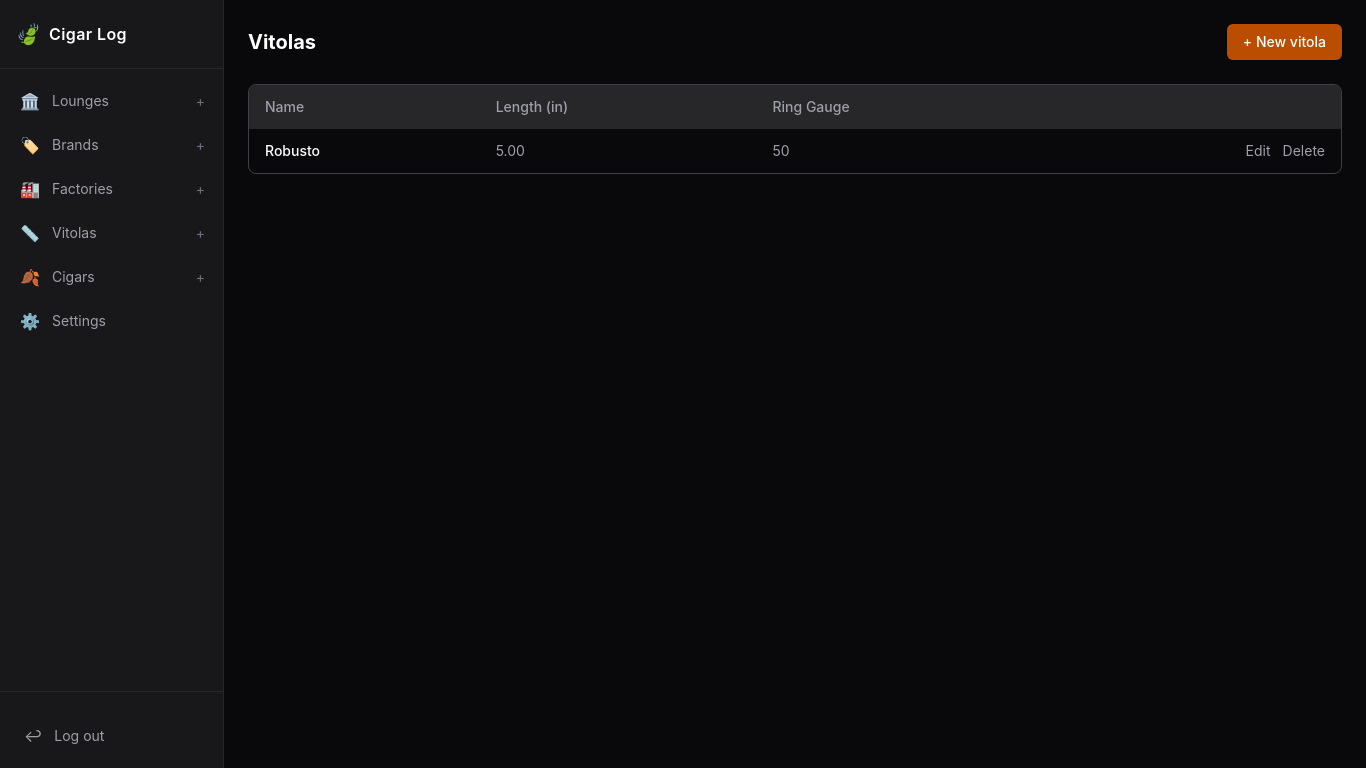
Test: VitolasPage › shows validation error when name is empty on submit
Click the button "+ New vitola": [1284, 42] box top-left (1227, 24), bottom-right (1342, 60)
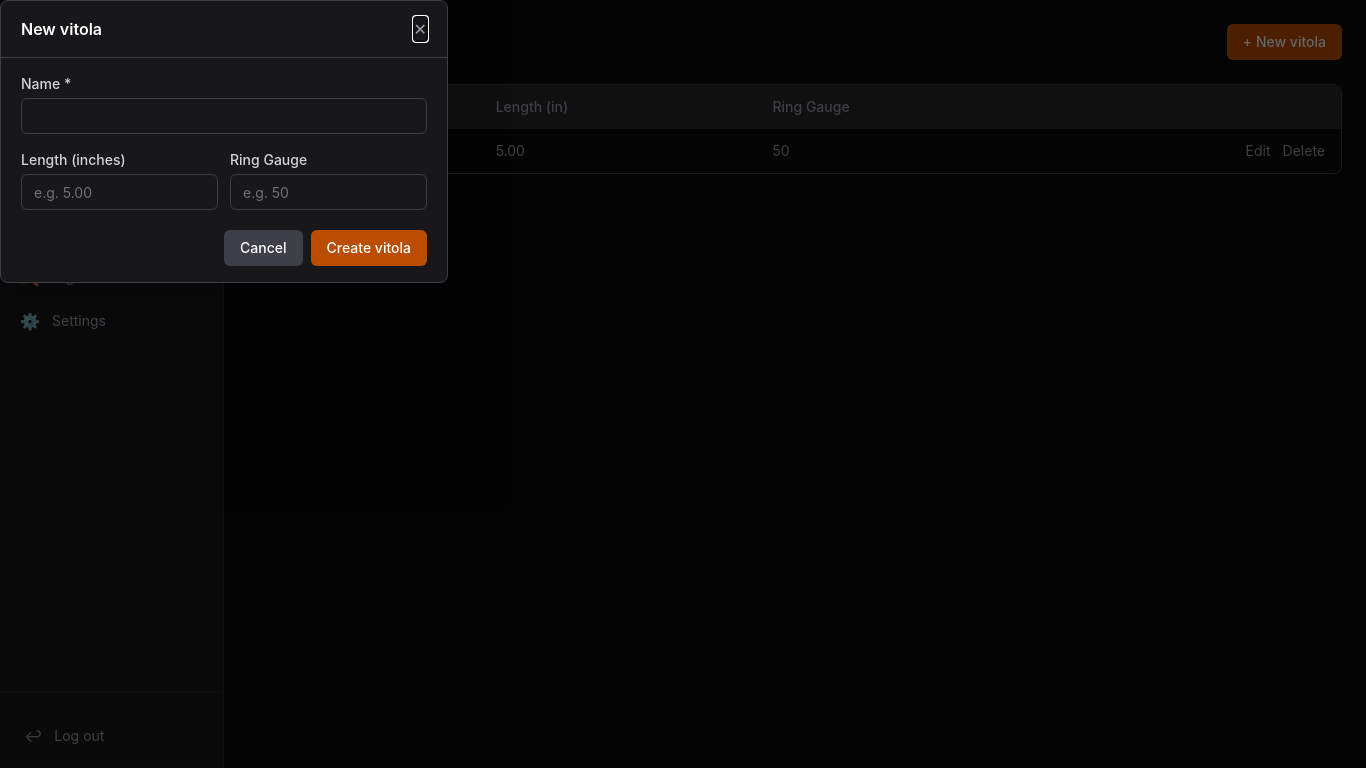
Click the button "Create vitola": [369, 248] box top-left (310, 230), bottom-right (427, 266)
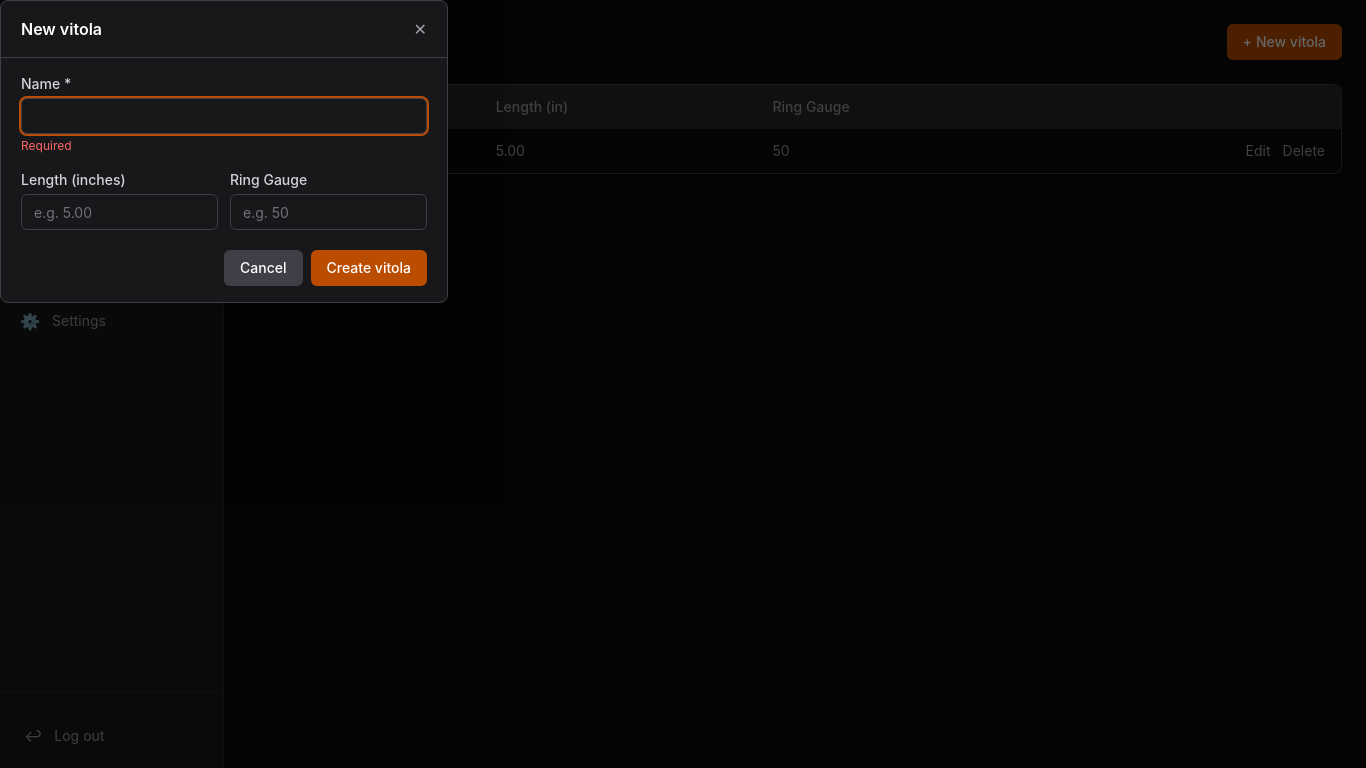
expect the text "Required" is shown: met, box top-left (21, 138), bottom-right (72, 153)
